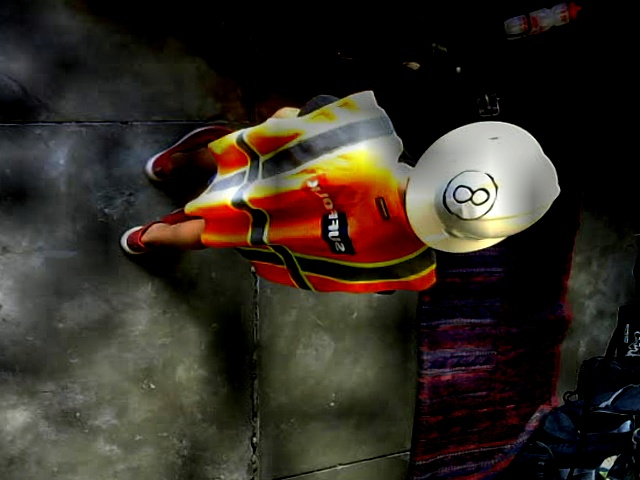eight: (441, 168, 502, 220)
